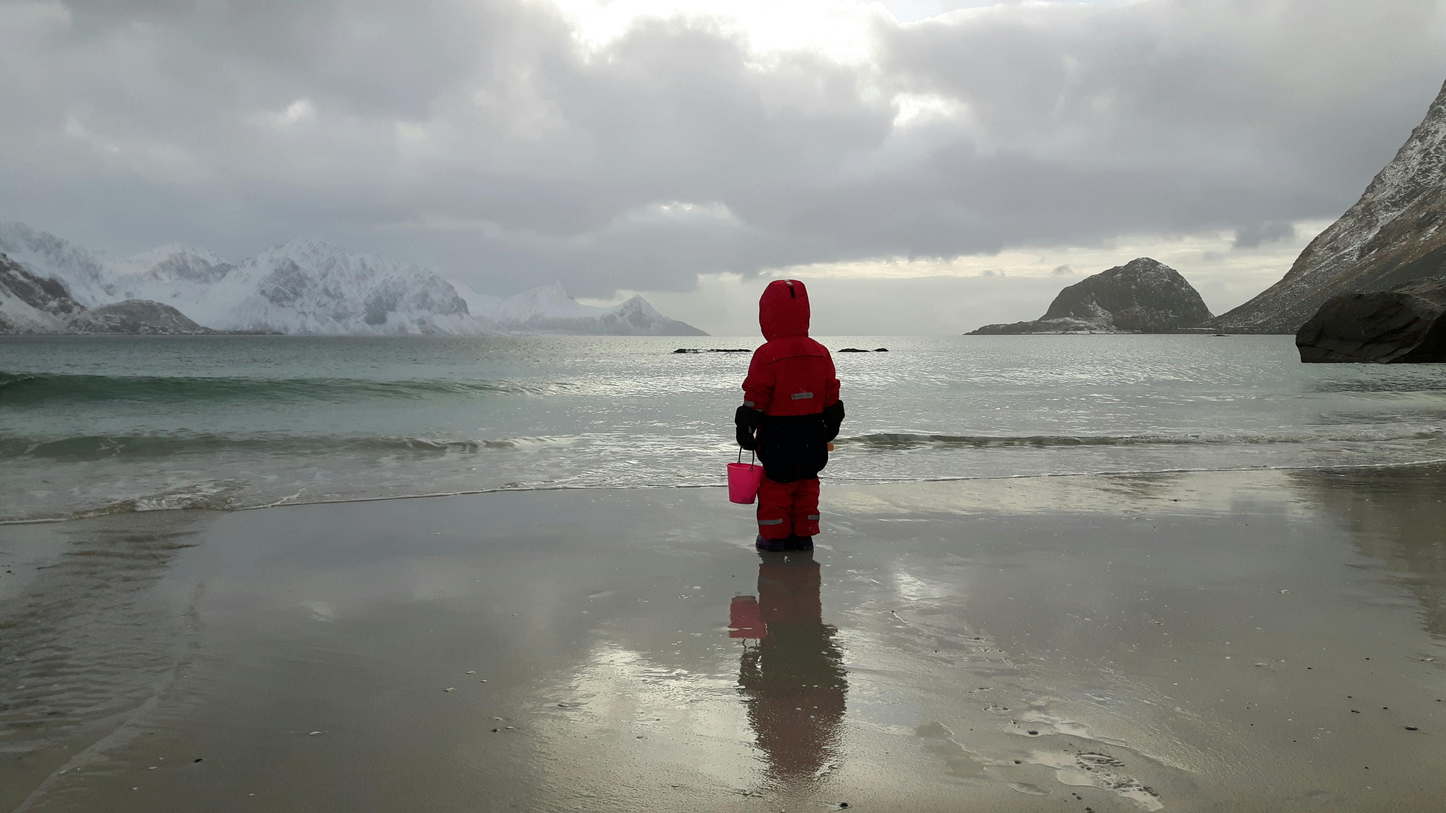Human: (679, 258, 968, 628)
